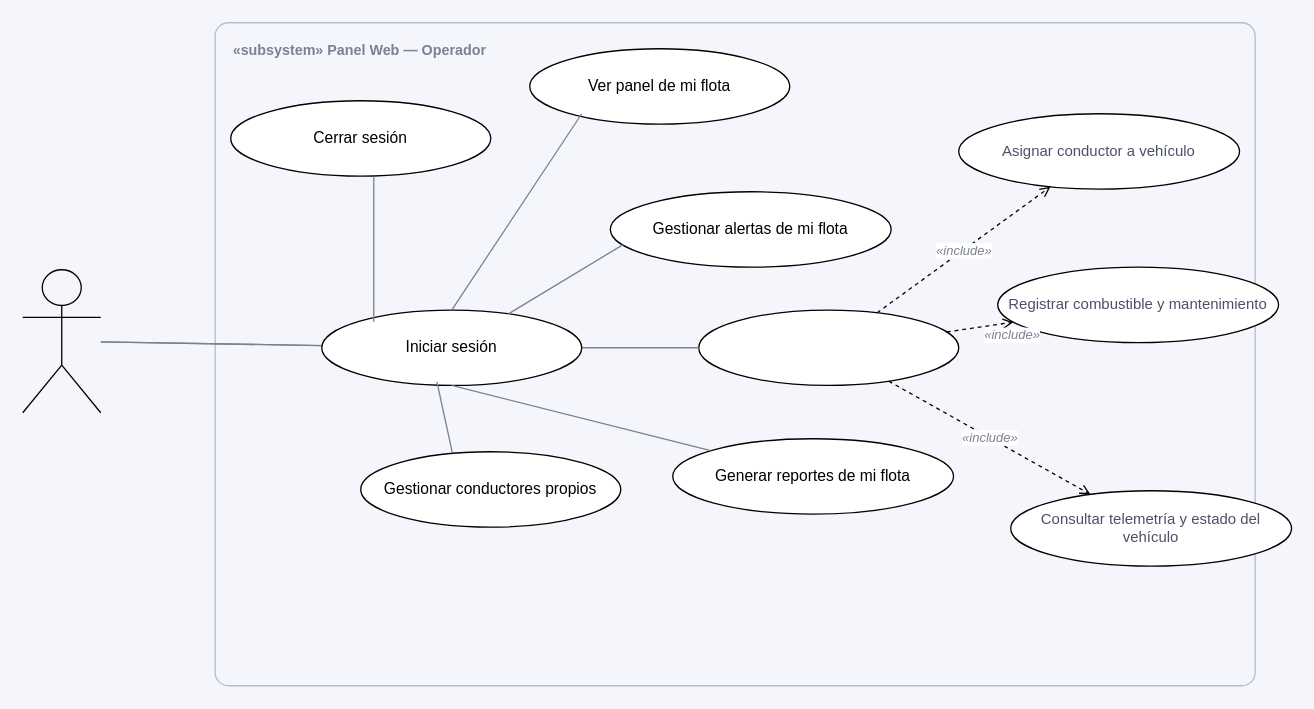
This 1314x709 diagram has some shape labels left out. The shapes that lost their labels are listed below. From the top down, each one's centre as x and y in pixels, then its label:
the point at 61,340: Operador
the point at 828,347: Gestionar vehículos propios
